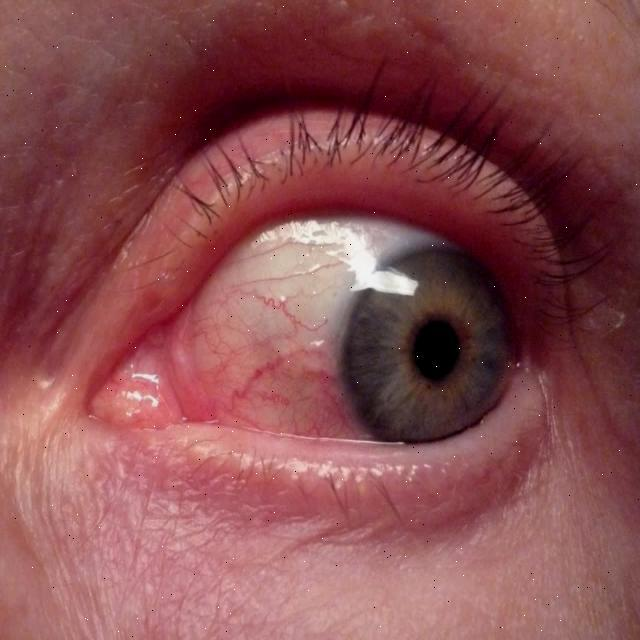Conjunctivitis: (70, 242, 520, 442)
